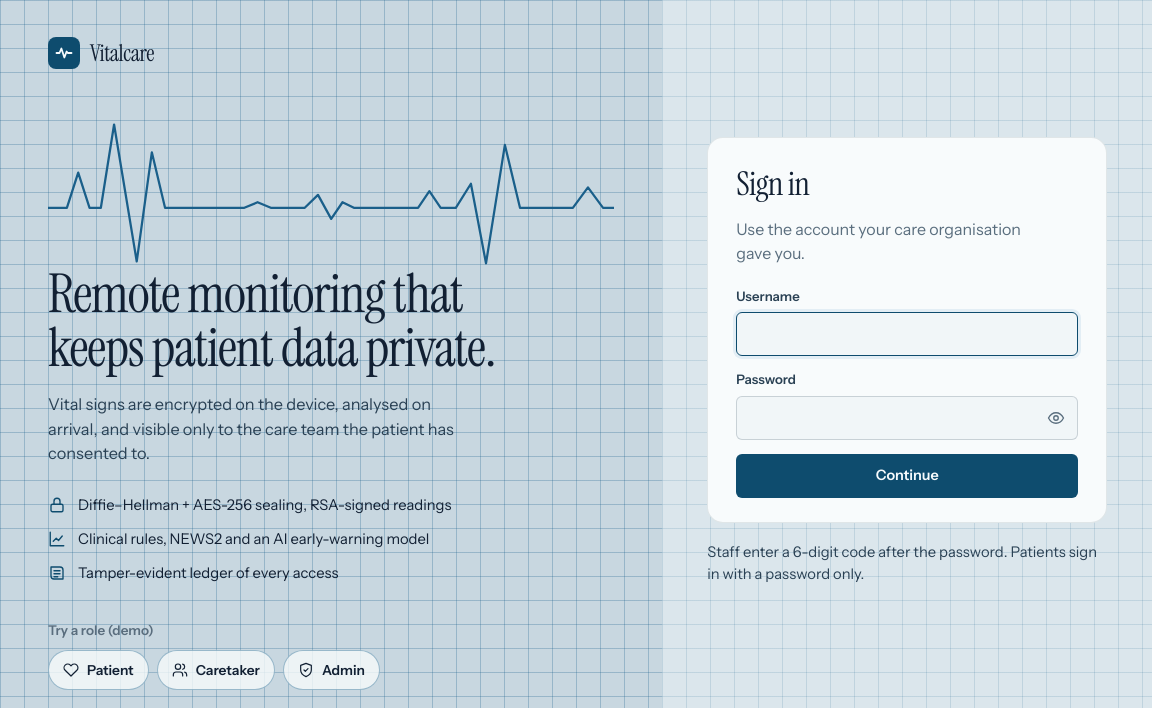
Test: Login › demo role buttons fill the password but keep it hidden
Click the button "Patient": (98, 670) [48,650,149,690]
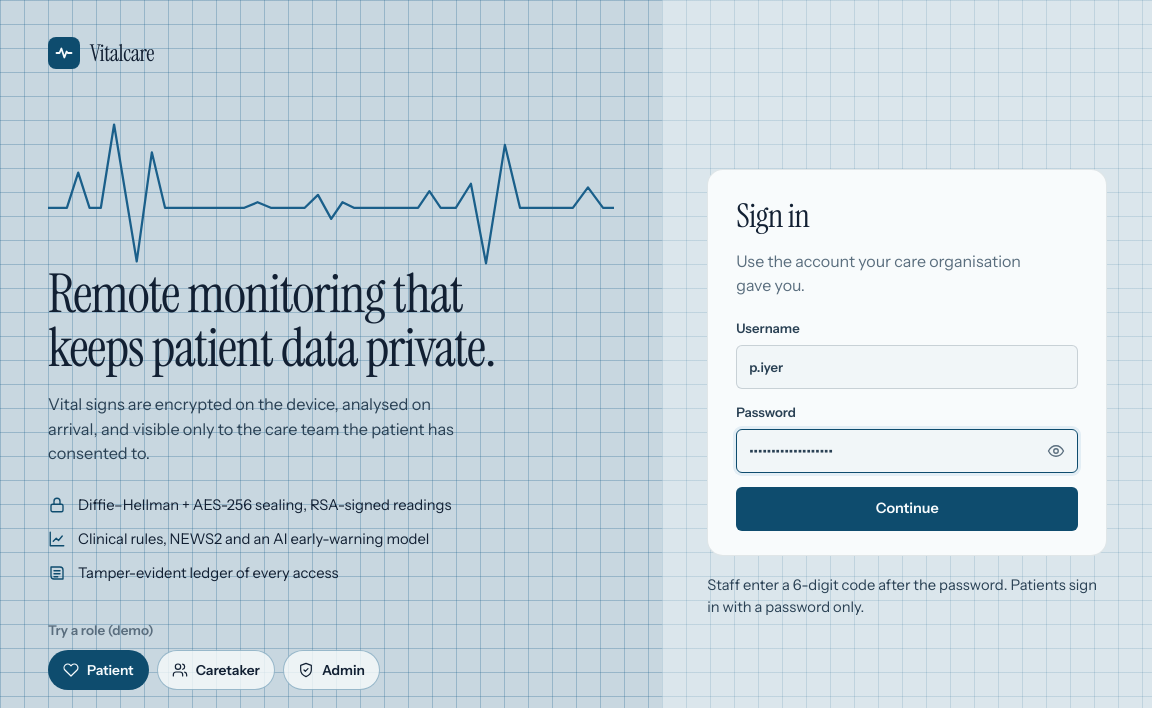
expect the button named "Show password" is shown: met, box [1038,433,1074,469]
expect the field showing "p.iyer" is shown: met, box [736,345,1078,389]
expect the password field labelled "Password" holds "MapleHeronCanyon268": met, box [736,429,1078,473]
Click the button "Caretaker": (216, 670) [157,650,275,690]
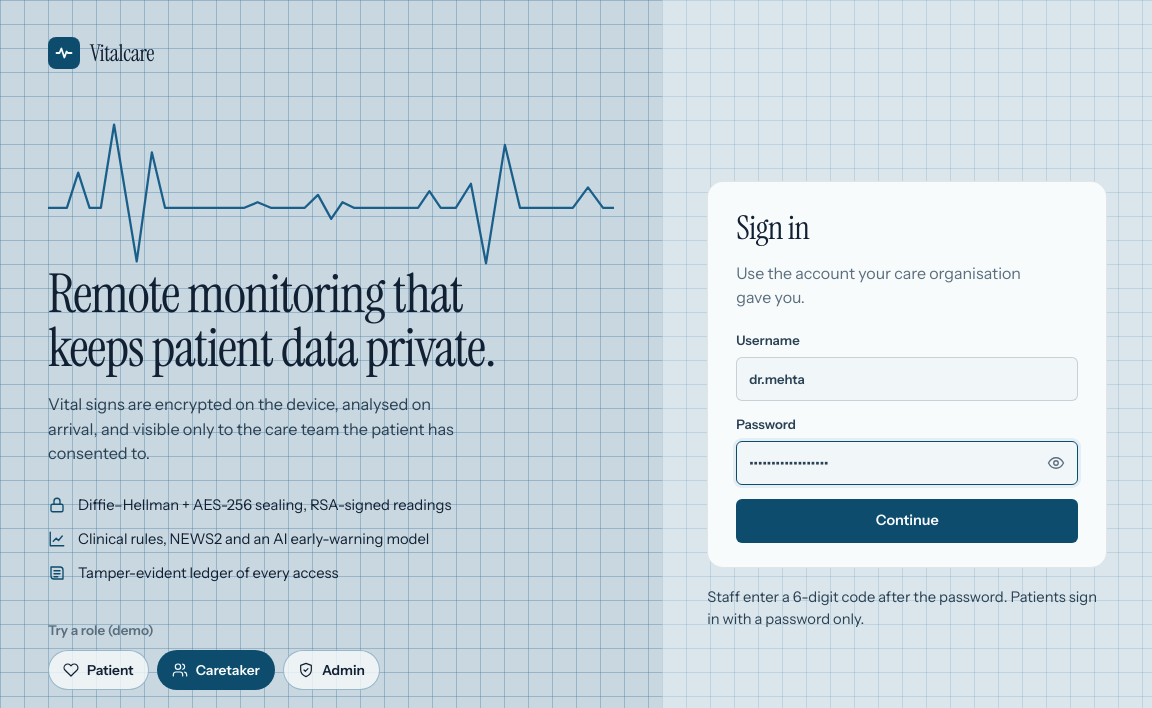
expect the button named "Show password" is shown: met, box [1038,445,1074,481]
expect the field showing "dr.mehta" is shown: met, box [736,357,1078,401]
expect the password field labelled "Password" holds "CedarOtterRiver735": met, box [736,441,1078,485]
Click the button "Admin": (331, 670) [283,650,380,690]
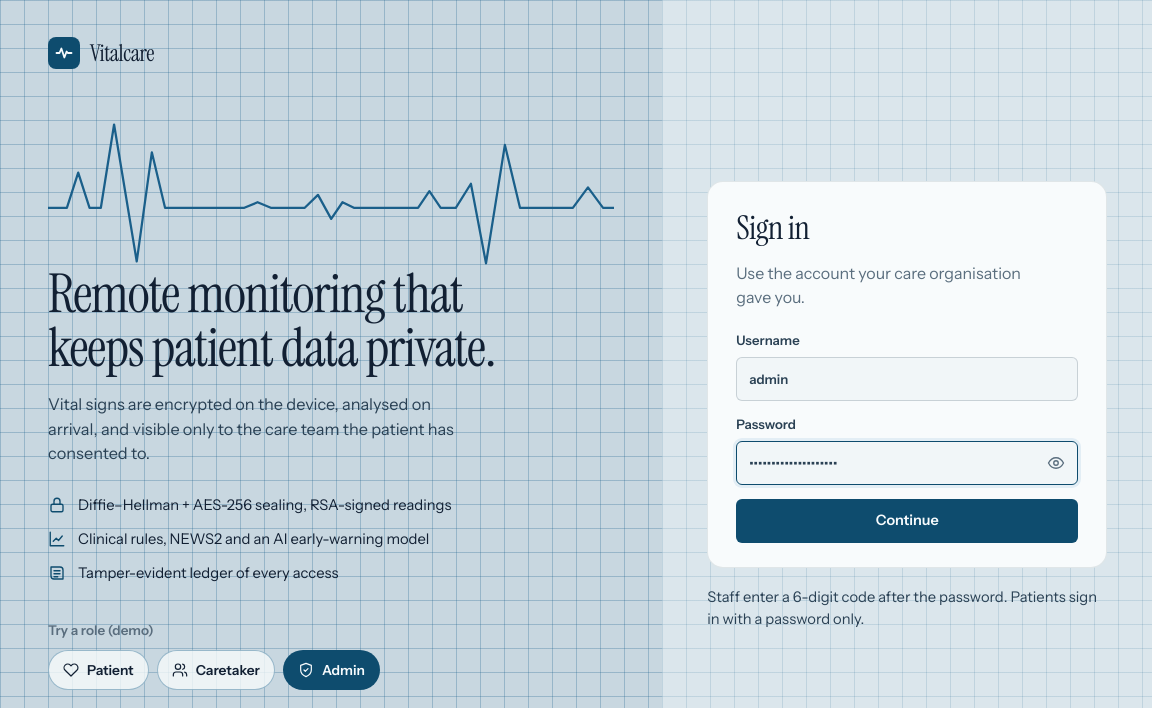
expect the password field labelled "Password" holds "AmberFalconHarbor482": met, box [736,441,1078,485]
expect the field showing "admin" is shown: met, box [736,357,1078,401]
